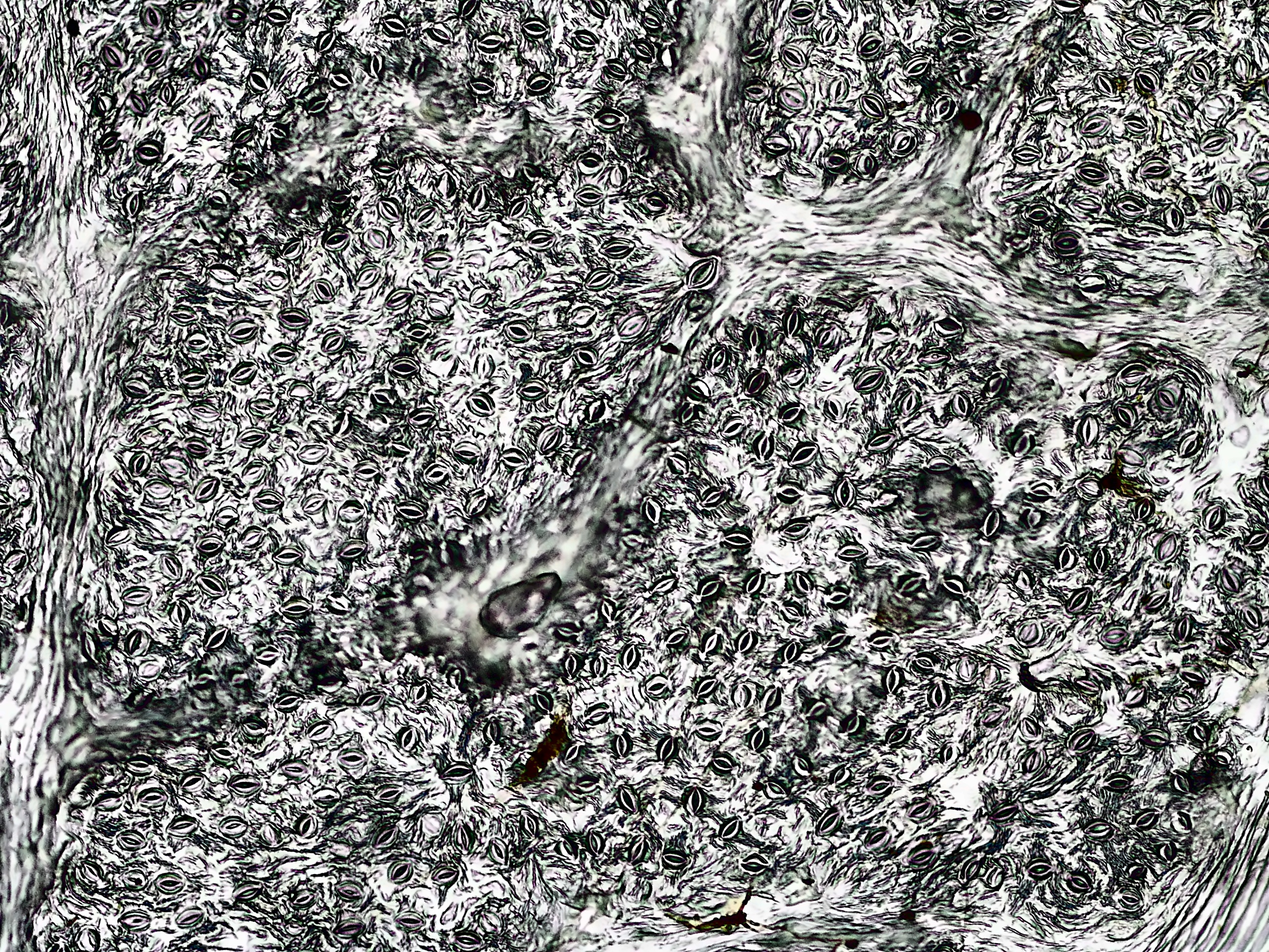stomata: (1013, 618, 1045, 647), (832, 477, 859, 510), (687, 258, 717, 287), (856, 31, 886, 60), (853, 367, 886, 393), (1136, 0, 1165, 29), (815, 808, 844, 837), (592, 109, 627, 133), (1117, 363, 1152, 387), (1073, 162, 1109, 185), (599, 238, 635, 260), (583, 267, 616, 291), (0, 548, 28, 576), (619, 311, 648, 338), (1054, 231, 1083, 258), (228, 774, 262, 797), (452, 440, 482, 466), (1067, 728, 1097, 754), (278, 598, 313, 620), (1210, 181, 1232, 216), (638, 191, 670, 215), (228, 319, 260, 343), (195, 574, 227, 598), (120, 585, 153, 608), (891, 130, 918, 158), (1078, 413, 1099, 449), (537, 425, 563, 454), (503, 319, 532, 345), (1200, 130, 1230, 155), (124, 629, 149, 659), (251, 490, 285, 512), (451, 930, 485, 952), (465, 392, 496, 416), (452, 822, 475, 854), (167, 815, 199, 838), (118, 909, 150, 932), (440, 763, 475, 784), (526, 70, 553, 97), (193, 476, 220, 503), (896, 389, 922, 417), (779, 45, 807, 71), (1114, 196, 1147, 218), (918, 346, 951, 368), (741, 79, 770, 104), (1053, 543, 1078, 572), (788, 443, 818, 467), (1099, 624, 1129, 648), (617, 784, 641, 814), (277, 308, 311, 329), (386, 358, 420, 379), (236, 427, 270, 448), (498, 448, 529, 471), (517, 378, 548, 401), (865, 430, 896, 453), (1079, 114, 1110, 137), (865, 774, 896, 797), (209, 741, 240, 764), (574, 185, 606, 207), (1162, 202, 1184, 234), (860, 93, 887, 119), (865, 827, 893, 852), (183, 329, 212, 353), (779, 86, 808, 110), (206, 263, 239, 284), (1113, 447, 1146, 468), (928, 680, 951, 710), (218, 815, 248, 838), (79, 631, 98, 667), (525, 230, 556, 252), (121, 377, 152, 399), (406, 406, 437, 428), (281, 759, 312, 781), (337, 748, 368, 770), (231, 881, 262, 903), (644, 674, 670, 700), (1134, 69, 1160, 95), (885, 722, 911, 748), (158, 553, 183, 580), (229, 362, 257, 386), (158, 456, 190, 477), (1124, 30, 1156, 51), (907, 844, 935, 868), (174, 907, 206, 928), (187, 402, 222, 421), (1137, 729, 1172, 748), (321, 229, 351, 251), (395, 501, 428, 521), (827, 74, 849, 104), (1230, 53, 1252, 83), (179, 367, 210, 388), (142, 479, 173, 500), (116, 831, 147, 852), (333, 880, 364, 901), (213, 505, 239, 530), (782, 362, 807, 388), (823, 149, 848, 175), (1010, 432, 1035, 458), (142, 3, 166, 30), (337, 500, 364, 524), (570, 305, 597, 329), (1067, 588, 1091, 615), (134, 142, 162, 165), (204, 626, 227, 654), (267, 344, 299, 364), (273, 546, 305, 566), (1028, 96, 1060, 116), (1182, 11, 1214, 31), (883, 664, 905, 693), (477, 31, 507, 52), (694, 719, 724, 740), (1178, 664, 1208, 685), (154, 872, 184, 893), (136, 788, 169, 807), (247, 69, 272, 94), (377, 198, 402, 223), (362, 229, 388, 253), (1113, 403, 1137, 429), (1155, 534, 1179, 560), (955, 655, 979, 681), (143, 45, 170, 68), (427, 21, 454, 44), (577, 152, 604, 175), (424, 249, 455, 269), (297, 444, 328, 464), (780, 522, 811, 542), (168, 600, 190, 628), (1178, 430, 1200, 458), (979, 664, 1001, 692), (487, 838, 509, 866), (469, 183, 490, 212), (386, 288, 415, 309), (169, 305, 198, 326), (700, 486, 729, 507), (817, 18, 838, 47), (947, 27, 976, 48), (896, 574, 925, 595), (906, 799, 935, 820), (1139, 159, 1171, 178), (934, 318, 966, 337), (909, 533, 941, 552), (241, 462, 266, 486), (238, 527, 268, 547), (751, 434, 775, 459), (1083, 819, 1113, 839), (934, 95, 957, 121), (1094, 72, 1117, 98), (1133, 808, 1159, 831), (316, 28, 338, 55), (353, 266, 380, 288), (573, 346, 600, 368), (777, 482, 804, 504), (835, 542, 868, 560), (856, 151, 878, 178), (195, 537, 226, 556), (628, 834, 647, 865), (468, 76, 496, 97), (702, 630, 723, 658), (1012, 144, 1040, 165), (307, 722, 335, 743), (432, 866, 460, 887), (519, 19, 548, 39), (685, 786, 705, 815), (274, 694, 303, 714), (1101, 774, 1133, 792), (988, 803, 1020, 821), (258, 821, 282, 845), (101, 43, 124, 68), (721, 416, 746, 439), (984, 373, 1007, 398), (1012, 567, 1037, 590), (1120, 687, 1145, 710), (388, 859, 411, 884), (223, 4, 249, 26), (301, 492, 327, 514), (465, 492, 487, 518), (1240, 605, 1262, 631), (358, 691, 384, 713), (572, 30, 599, 51), (650, 575, 677, 596), (788, 3, 815, 24), (1089, 546, 1110, 573), (1026, 858, 1053, 879), (742, 853, 769, 874), (105, 527, 133, 547), (326, 594, 354, 614), (746, 369, 766, 397), (313, 787, 341, 807), (119, 870, 147, 890), (334, 919, 365, 937), (414, 205, 438, 228), (183, 437, 207, 460), (1218, 569, 1241, 593), (718, 817, 741, 841), (295, 815, 319, 838), (479, 910, 503, 933), (352, 461, 381, 480), (762, 135, 791, 154), (93, 792, 122, 811), (734, 628, 756, 653), (612, 734, 634, 759), (698, 577, 723, 599), (1203, 505, 1225, 530), (382, 15, 408, 36), (1029, 482, 1055, 503), (1066, 871, 1092, 892), (783, 306, 801, 336), (872, 323, 899, 343), (1072, 197, 1102, 215), (760, 781, 790, 799), (254, 644, 281, 664), (127, 758, 154, 778), (374, 785, 404, 803), (643, 497, 662, 525), (1174, 615, 1193, 643), (313, 279, 335, 303), (321, 332, 345, 354), (130, 452, 152, 476), (666, 454, 690, 476), (744, 571, 766, 595), (1156, 387, 1178, 411), (1022, 750, 1044, 774), (866, 632, 899, 648), (1118, 887, 1142, 909), (140, 659, 164, 681), (242, 715, 266, 737), (840, 714, 865, 735), (179, 772, 204, 793), (374, 827, 399, 848), (338, 541, 367, 559), (913, 654, 942, 672), (903, 57, 929, 77), (1025, 205, 1051, 225), (585, 830, 605, 856), (399, 726, 419, 752), (1123, 116, 1150, 135), (574, 775, 601, 794), (722, 531, 752, 548), (188, 113, 212, 134), (280, 238, 304, 259), (779, 603, 803, 624), (822, 397, 843, 421), (1078, 478, 1102, 499), (1019, 716, 1040, 740), (829, 764, 853, 785), (482, 718, 500, 746), (100, 130, 120, 155), (265, 271, 290, 291), (657, 736, 677, 761), (584, 704, 609, 724), (406, 324, 432, 343), (822, 632, 848, 651), (519, 813, 538, 839), (290, 889, 316, 908), (124, 190, 141, 219), (983, 509, 1000, 538), (249, 399, 276, 417), (1143, 592, 1170, 610), (1213, 633, 1240, 651), (1189, 62, 1211, 84), (1170, 811, 1192, 833), (81, 860, 103, 882), (696, 677, 717, 700), (827, 587, 850, 608), (816, 326, 837, 349), (424, 464, 448, 484), (791, 753, 811, 777), (99, 615, 119, 639), (710, 347, 727, 375), (397, 912, 425, 929), (794, 570, 813, 595), (661, 850, 686, 869), (469, 287, 490, 309), (731, 685, 751, 708), (779, 404, 802, 424), (1135, 498, 1155, 521), (942, 576, 965, 596), (1191, 720, 1211, 743), (982, 705, 1005, 725), (604, 59, 628, 78), (335, 413, 354, 437), (748, 728, 767, 752), (952, 393, 971, 417), (410, 681, 429, 705), (587, 398, 605, 423), (747, 327, 765, 352), (622, 643, 638, 671), (927, 456, 955, 472), (368, 52, 385, 78), (962, 856, 979, 882), (267, 6, 289, 26), (631, 40, 653, 60), (533, 691, 553, 713), (1063, 43, 1085, 63), (191, 56, 210, 79), (589, 655, 608, 678), (711, 754, 734, 773), (232, 127, 256, 145), (370, 389, 394, 407), (679, 402, 697, 426), (762, 687, 780, 711), (1076, 677, 1101, 694), (508, 198, 528, 219), (689, 379, 710, 399), (128, 92, 147, 114), (307, 97, 329, 116), (1170, 772, 1189, 794), (330, 70, 353, 88), (782, 639, 800, 662), (1125, 862, 1148, 880), (558, 836, 576, 859), (941, 741, 958, 765), (554, 623, 578, 640), (609, 165, 628, 186), (1158, 841, 1177, 862), (666, 628, 688, 646), (640, 11, 662, 29), (1246, 530, 1268, 548), (599, 600, 616, 623), (1172, 693, 1195, 710), (522, 163, 542, 182), (370, 163, 397, 177), (96, 93, 112, 116), (565, 741, 580, 764), (1213, 749, 1233, 766), (284, 918, 304, 935), (330, 191, 351, 207), (161, 82, 175, 105), (565, 654, 578, 677)
